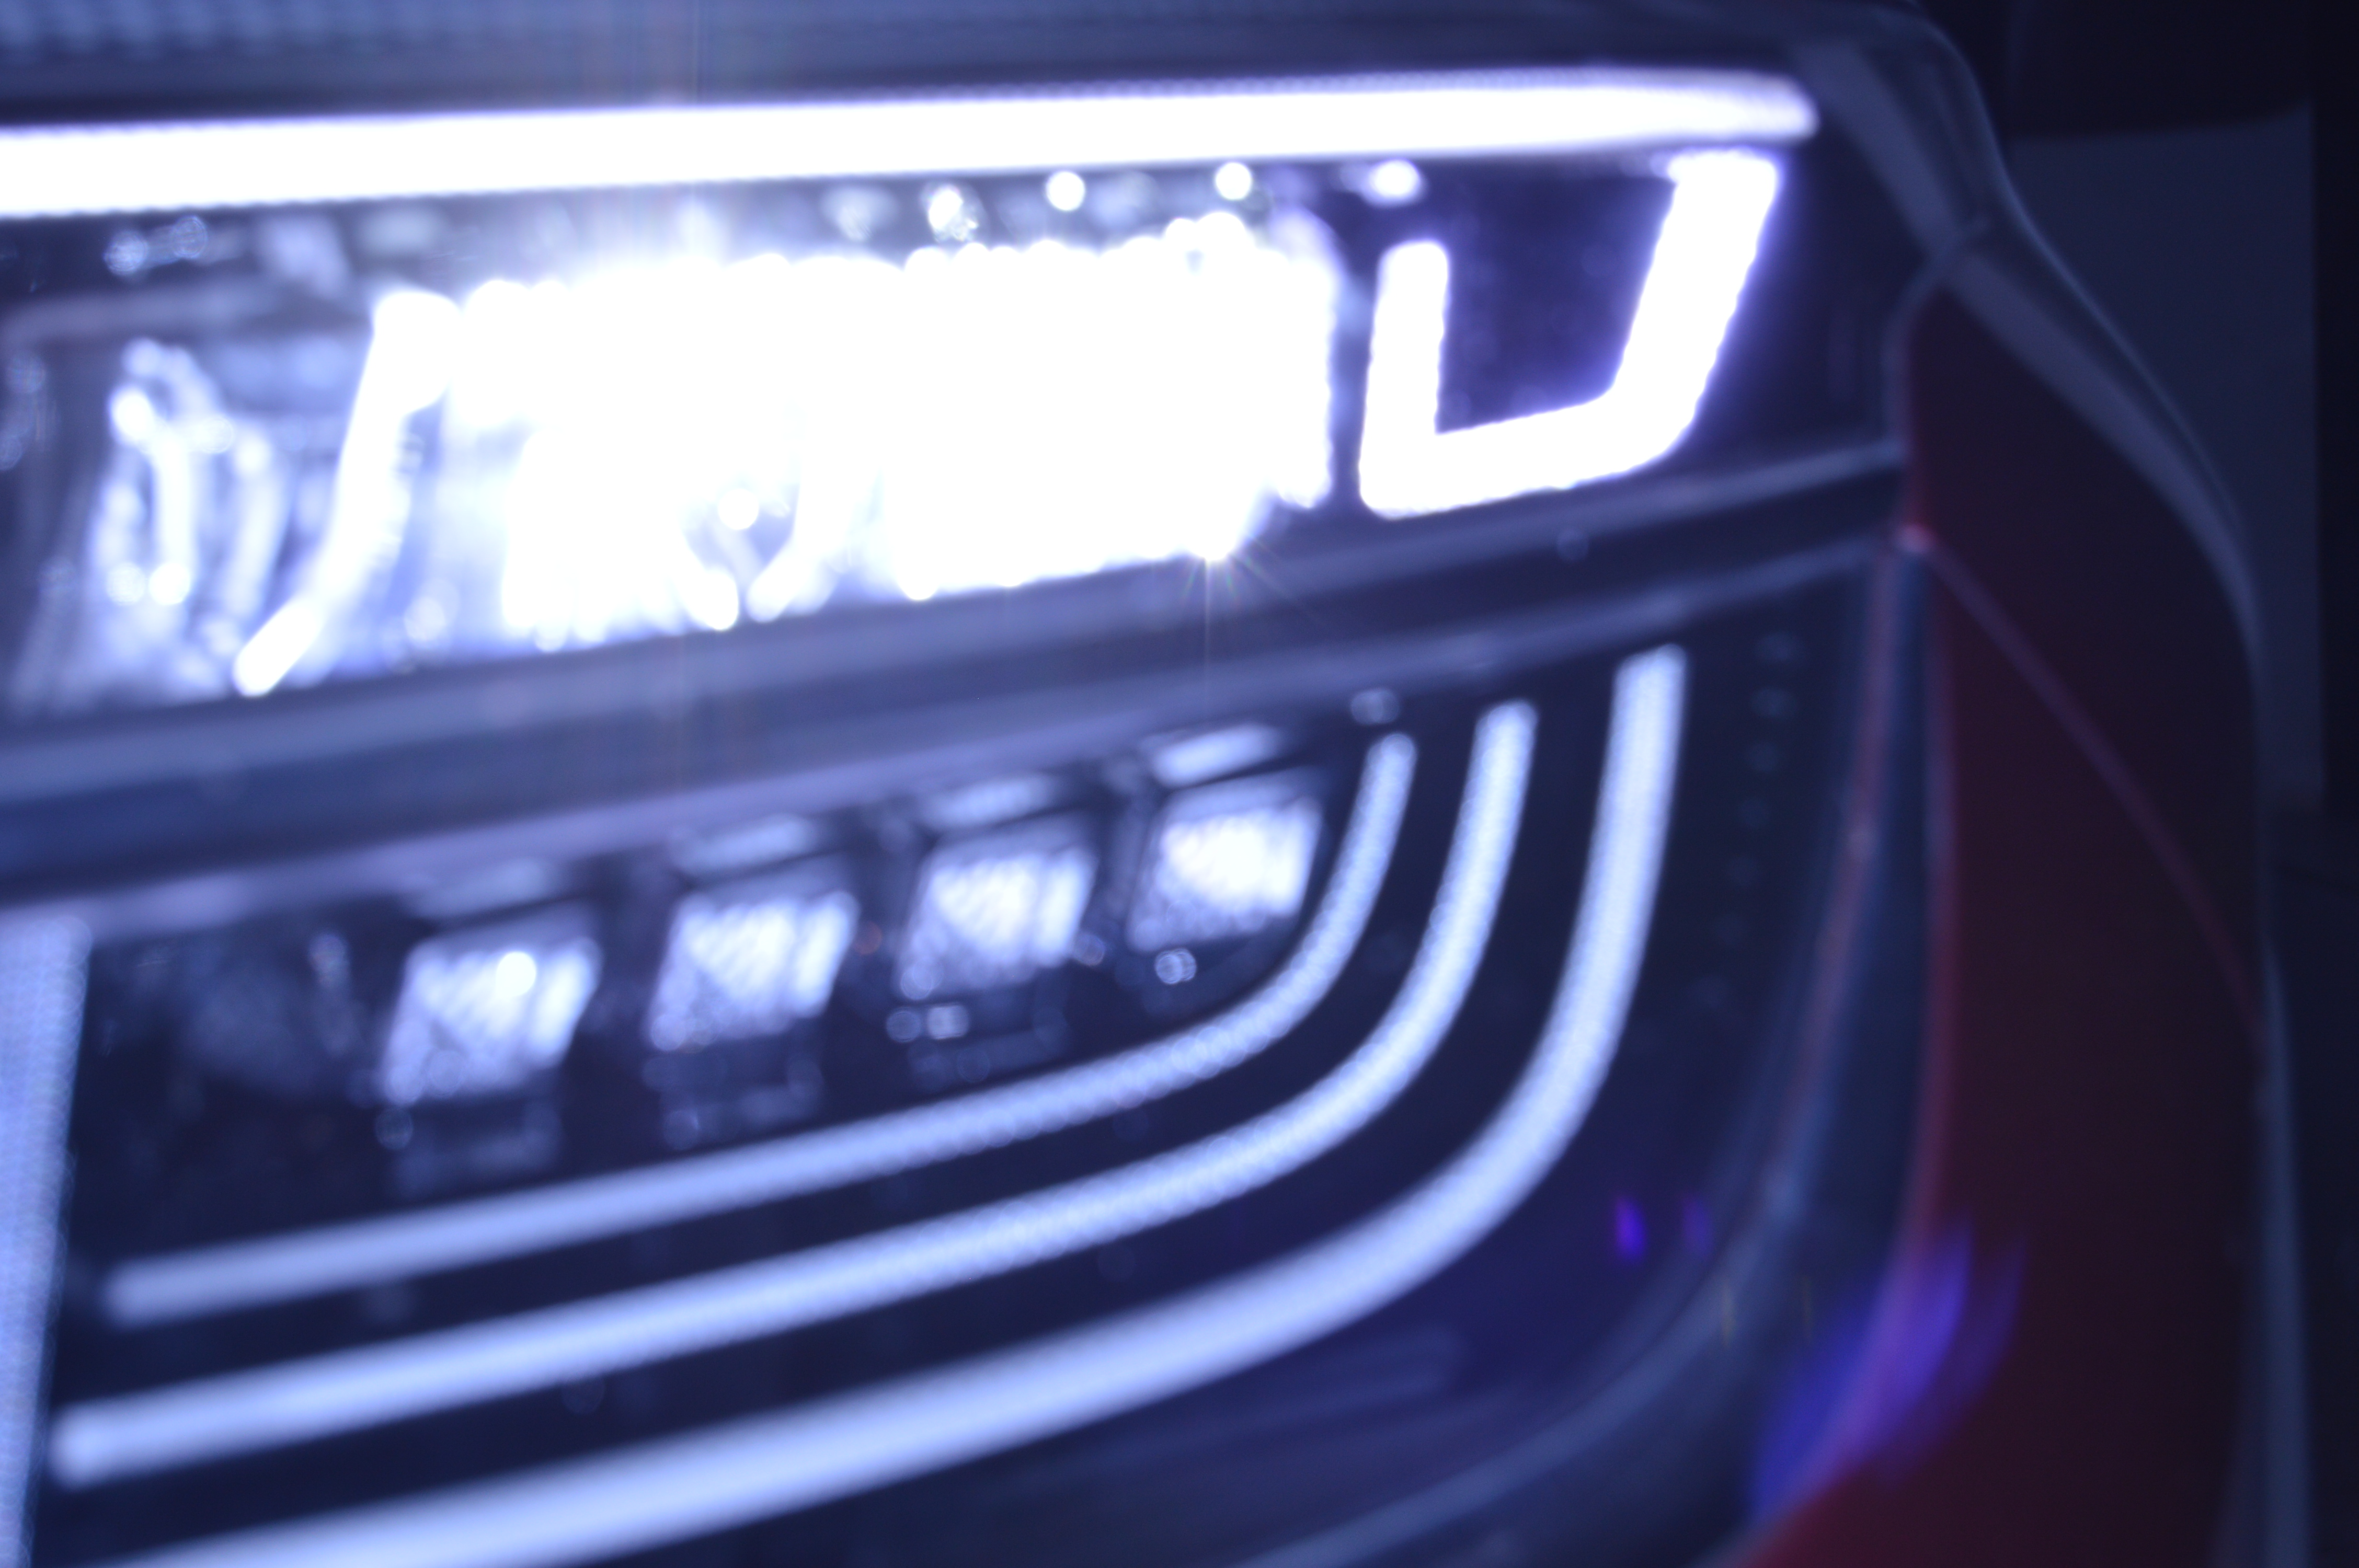Glare: (100, 222, 1344, 740)
